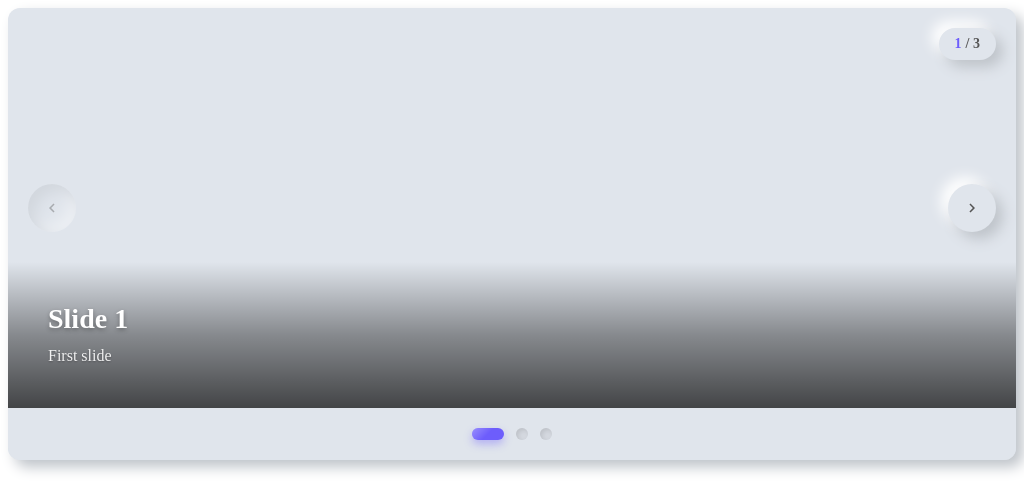
Test: Carousel › navigates to previous slide on prev button click
The width and height of the screenshot is (1024, 491).
Step 1. Click the button named "Next slide" → (972, 208), box [948,184,996,232]
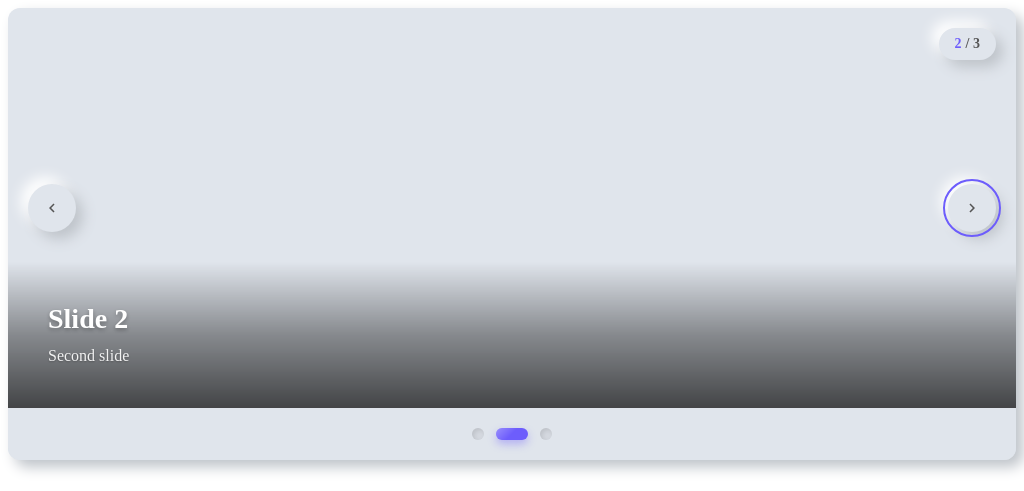
Step 2. Click the button named "Previous slide" → (52, 208), box [28,184,76,232]
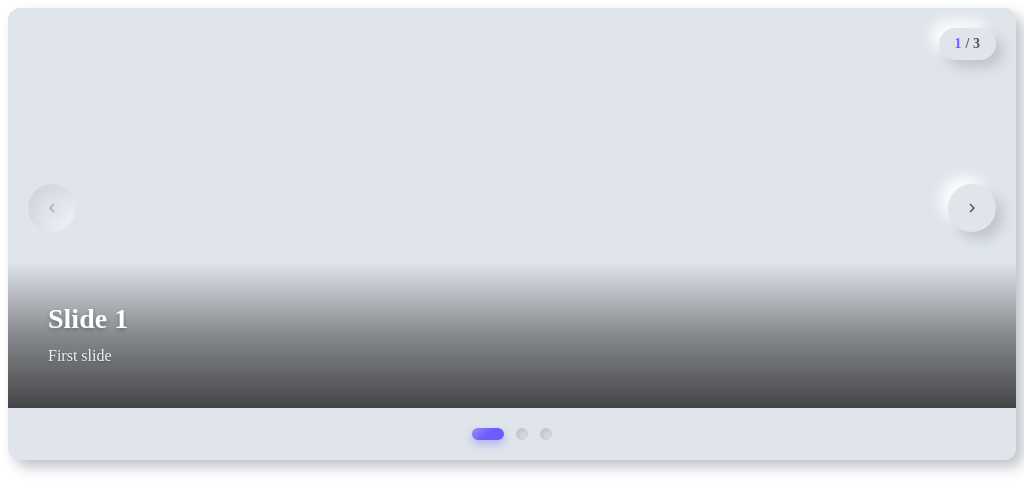
Result: the text "1" is shown at [955,36,962,52]
